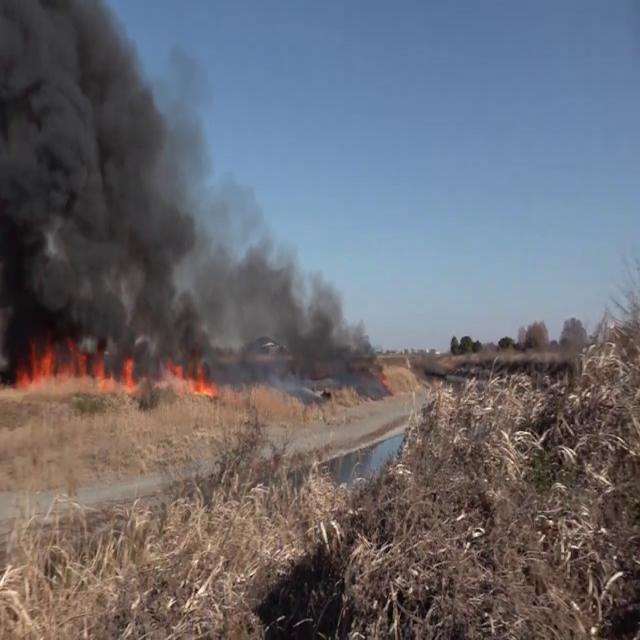Fire: (10, 324, 139, 394), (164, 349, 220, 399)
Smoke: (0, 0, 202, 370), (215, 214, 392, 380)
